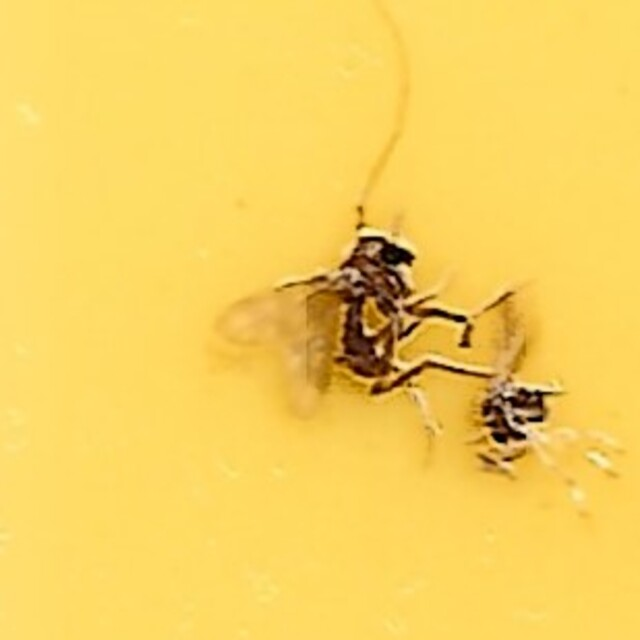Nematocera: (207, 232, 433, 408)
